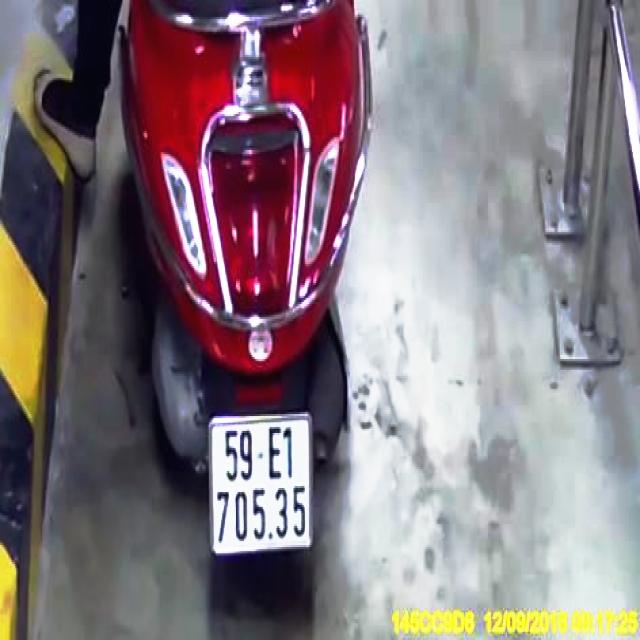license_plate: (213, 420, 314, 550)
